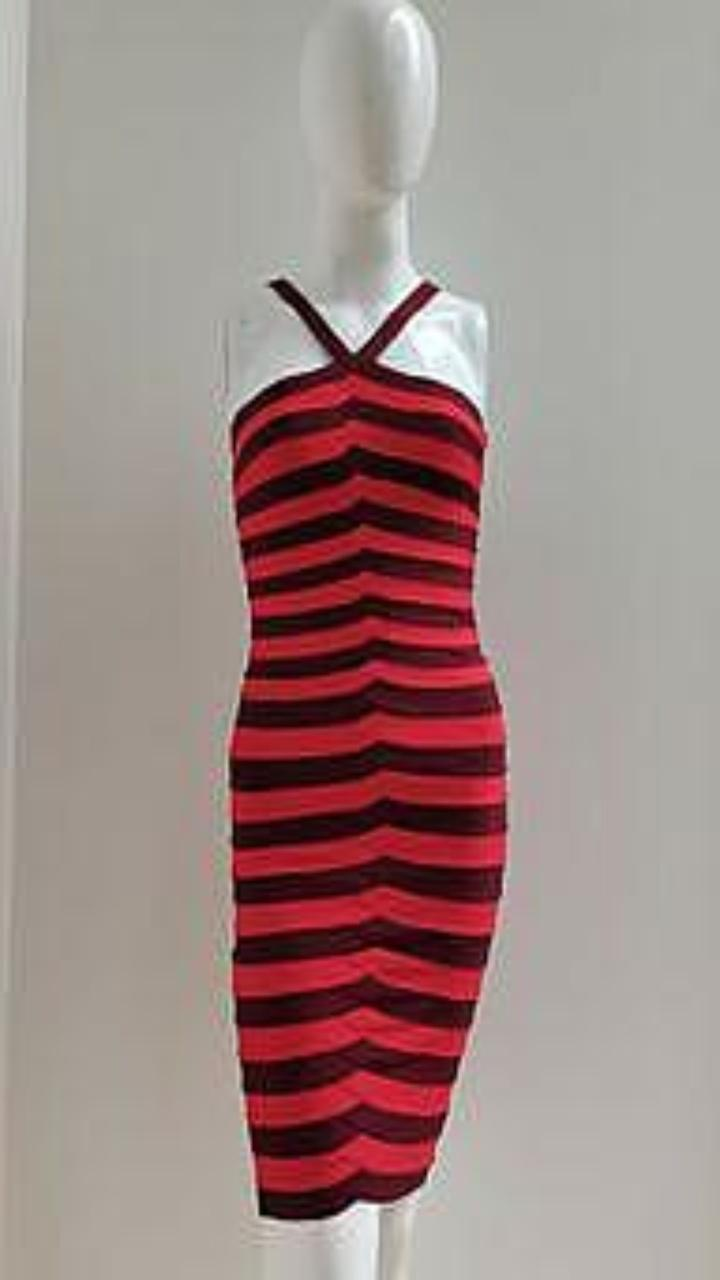Dresses: (228, 277, 507, 1218)
